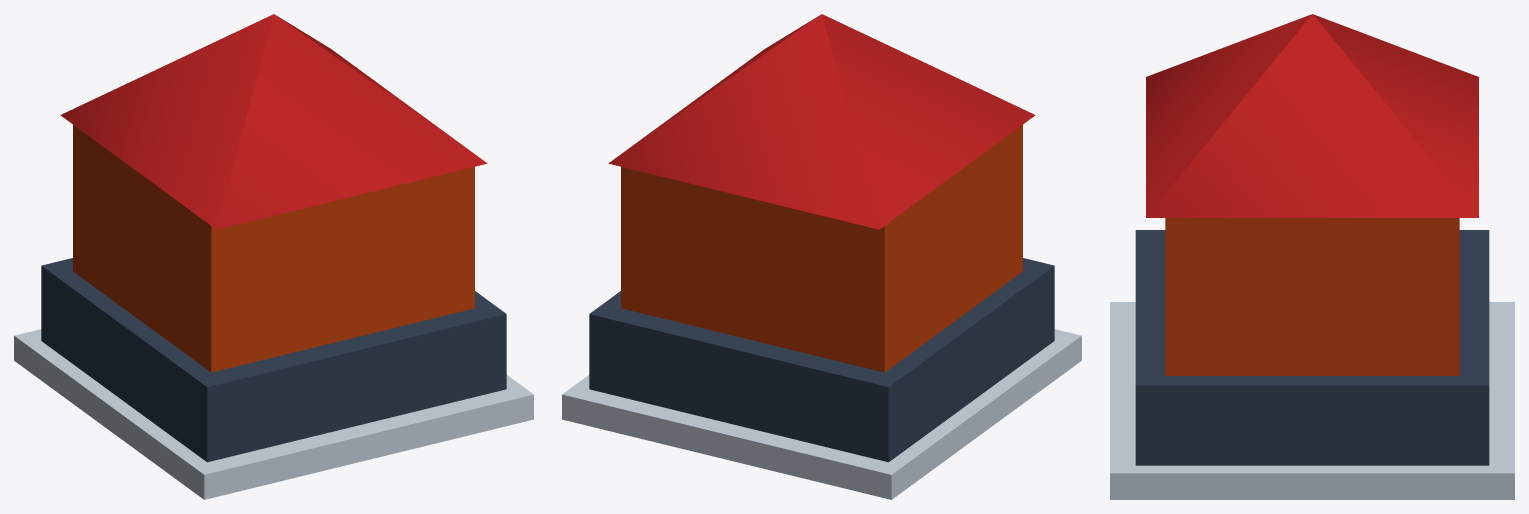
Rendered from bld_c3_cell_23.glb.
3 views of the same model, side by side, from view 1: azimuth 30°, elevation 25°; view 2: azimuth 150°, elevation 25°; view 3: azimuth 270°, elevation 25° (orthographic). The views are drawn at different scales.
Visible parts, largest first — view 1: Bld_C3_Cell_23_BespokeLandmark; view 2: Bld_C3_Cell_23_BespokeLandmark; view 3: Bld_C3_Cell_23_BespokeLandmark.
Part boxes in pixels (x1,y1,x2,y2): Bld_C3_Cell_23_BespokeLandmark: [14, 14, 533, 499]; Bld_C3_Cell_23_BespokeLandmark: [562, 14, 1081, 499]; Bld_C3_Cell_23_BespokeLandmark: [1110, 14, 1514, 499].
Size of the model in its own units: 0.55 by 0.6 by 0.55.
